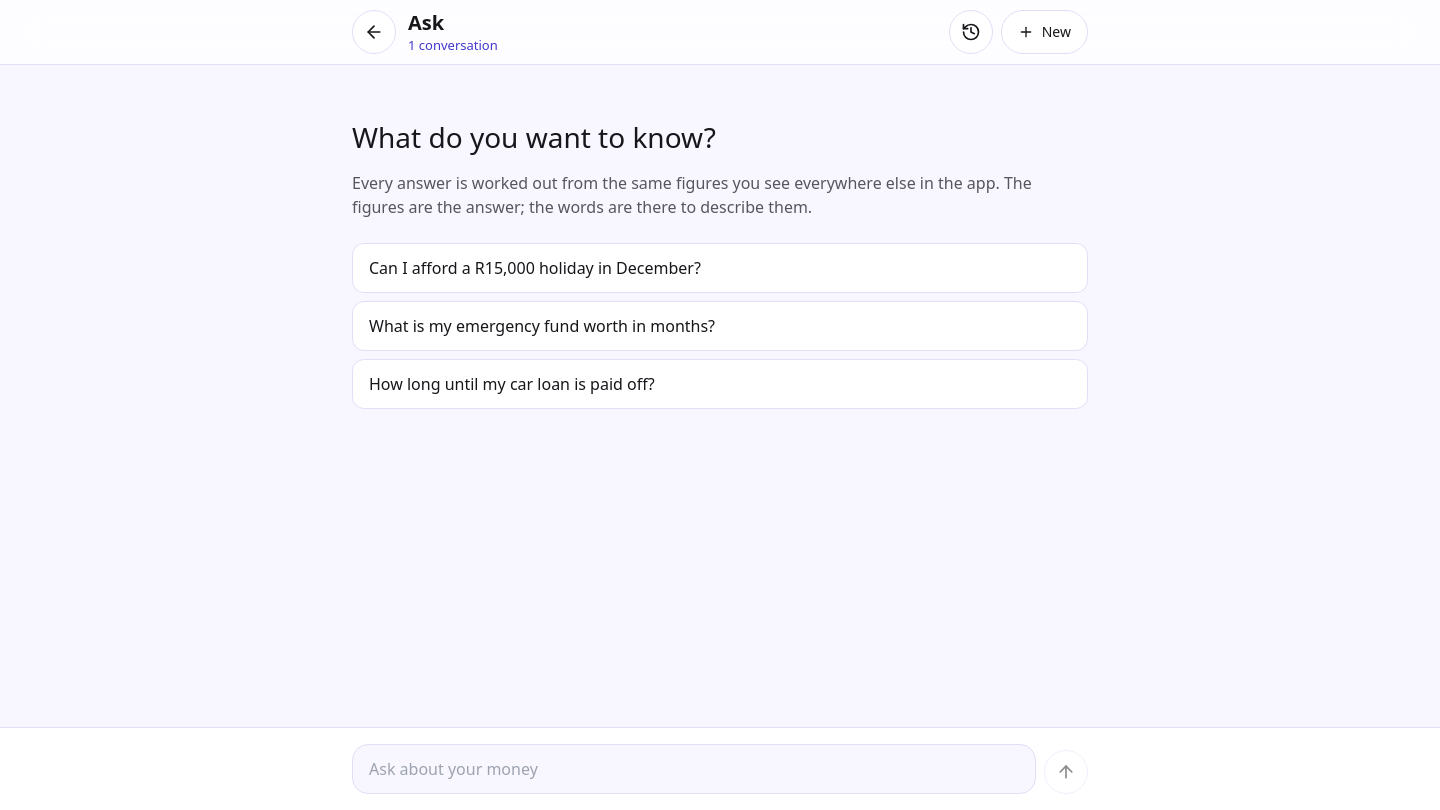
it: ChatView history › leaves no deleted thread on screen when the open one is the one deleted
Click the button named "History". click: [971, 32]
box: 949,10 -> 993,54
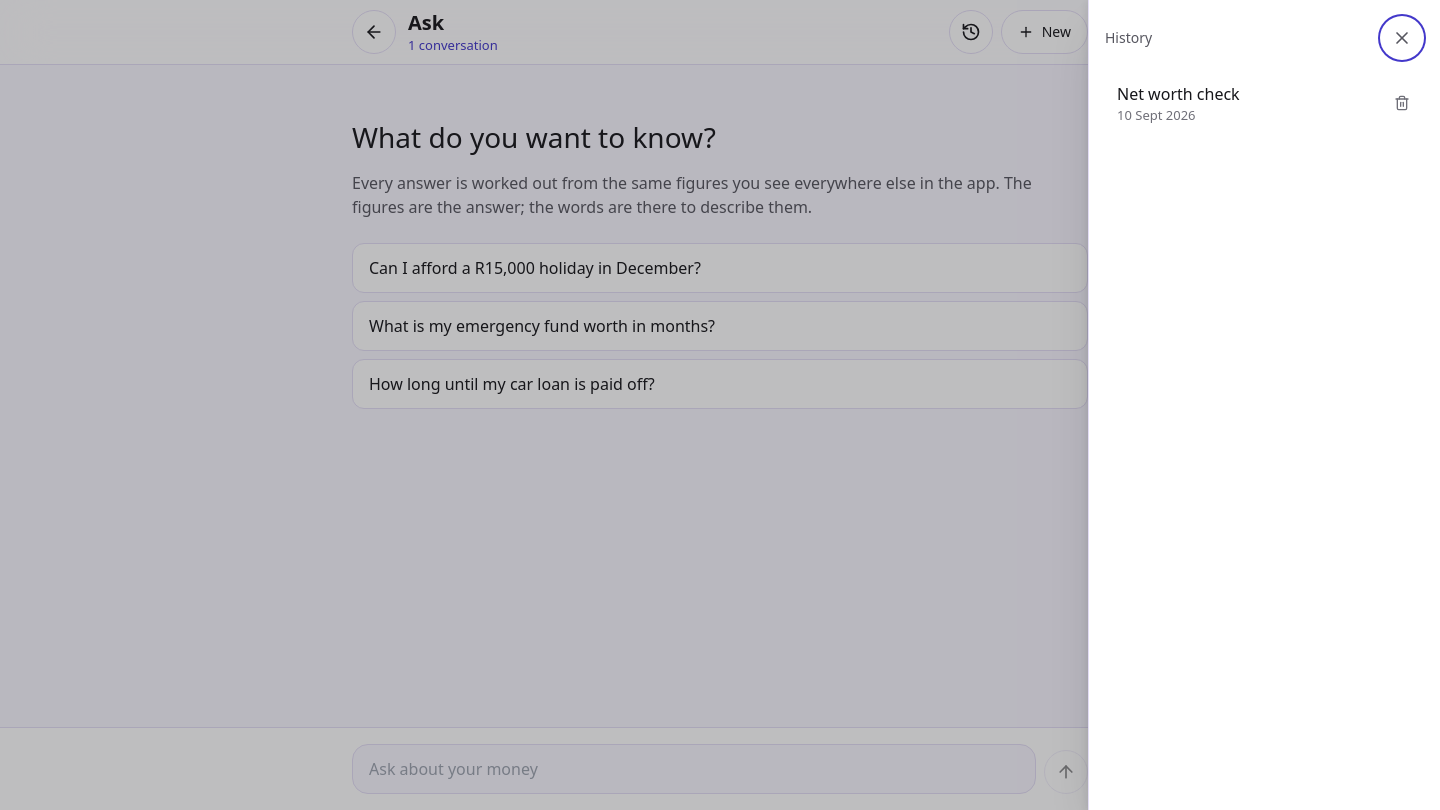
Click the text "Net worth check". click: [1178, 94]
box: 1117,82 -> 1240,106
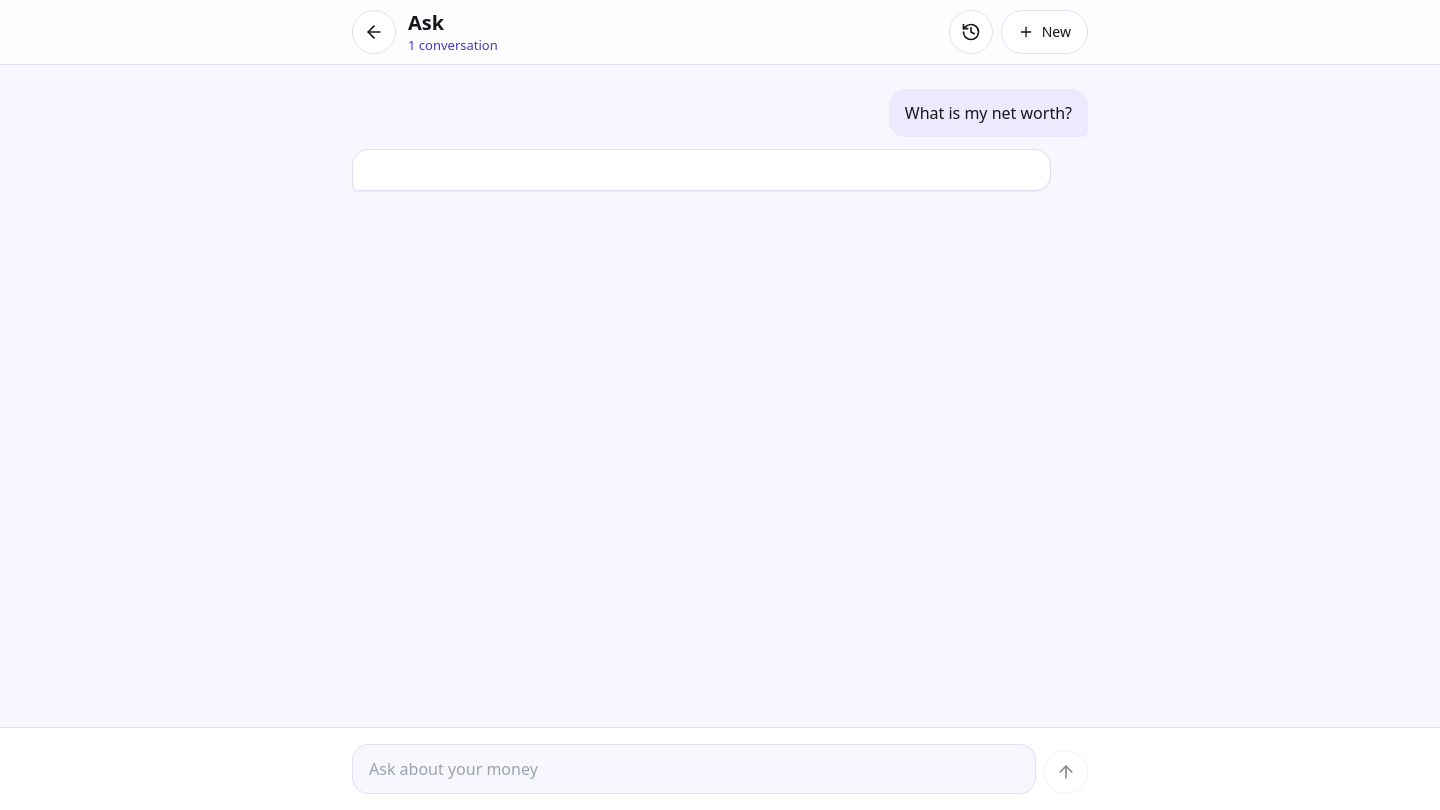
expect the text "What is my net worth?" is shown: met, box 889,89 -> 1088,137
Click the button named "History". click: [971, 32]
box: 949,10 -> 993,54
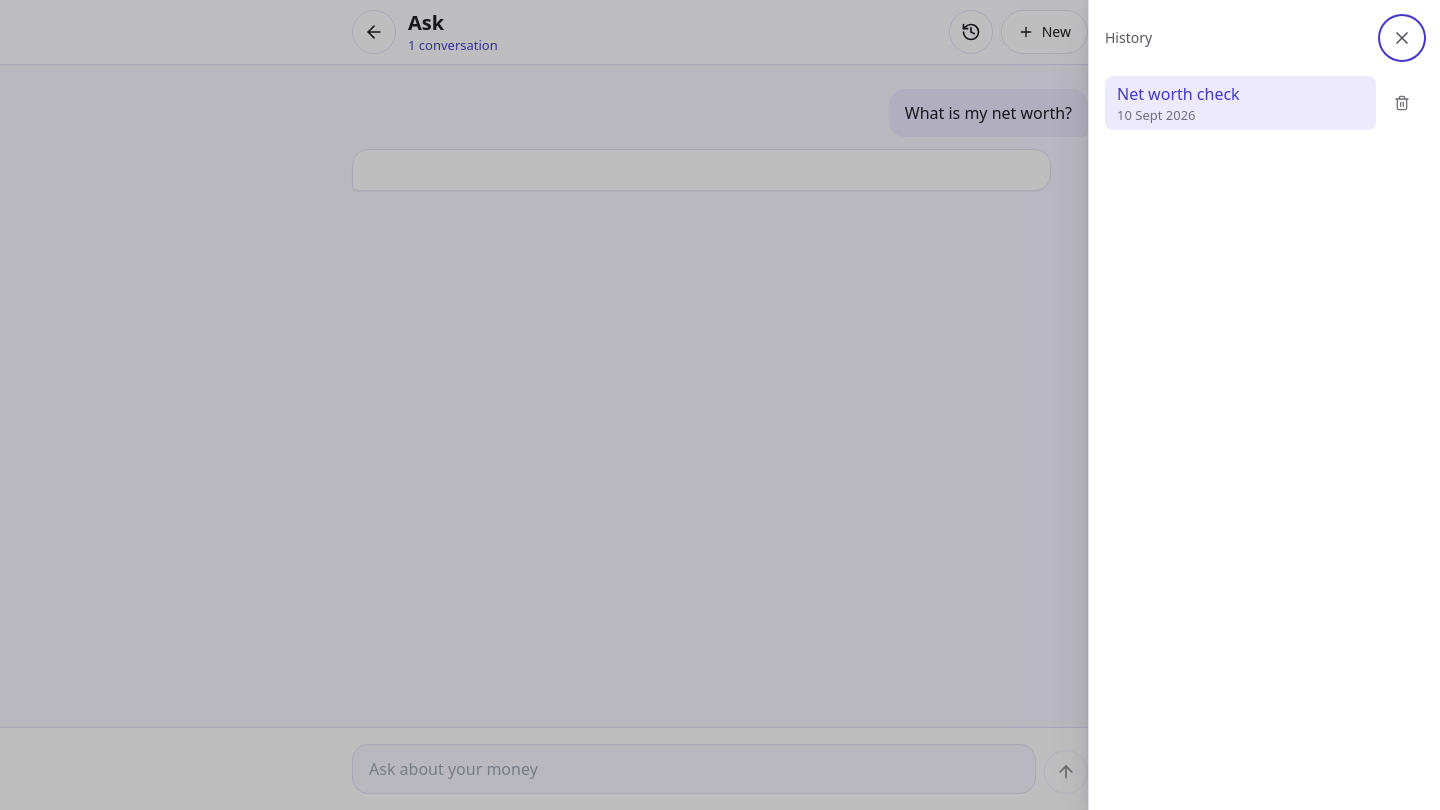
Click the button named "Delete Net worth check". click: [1402, 103]
box: 1380,81 -> 1424,125
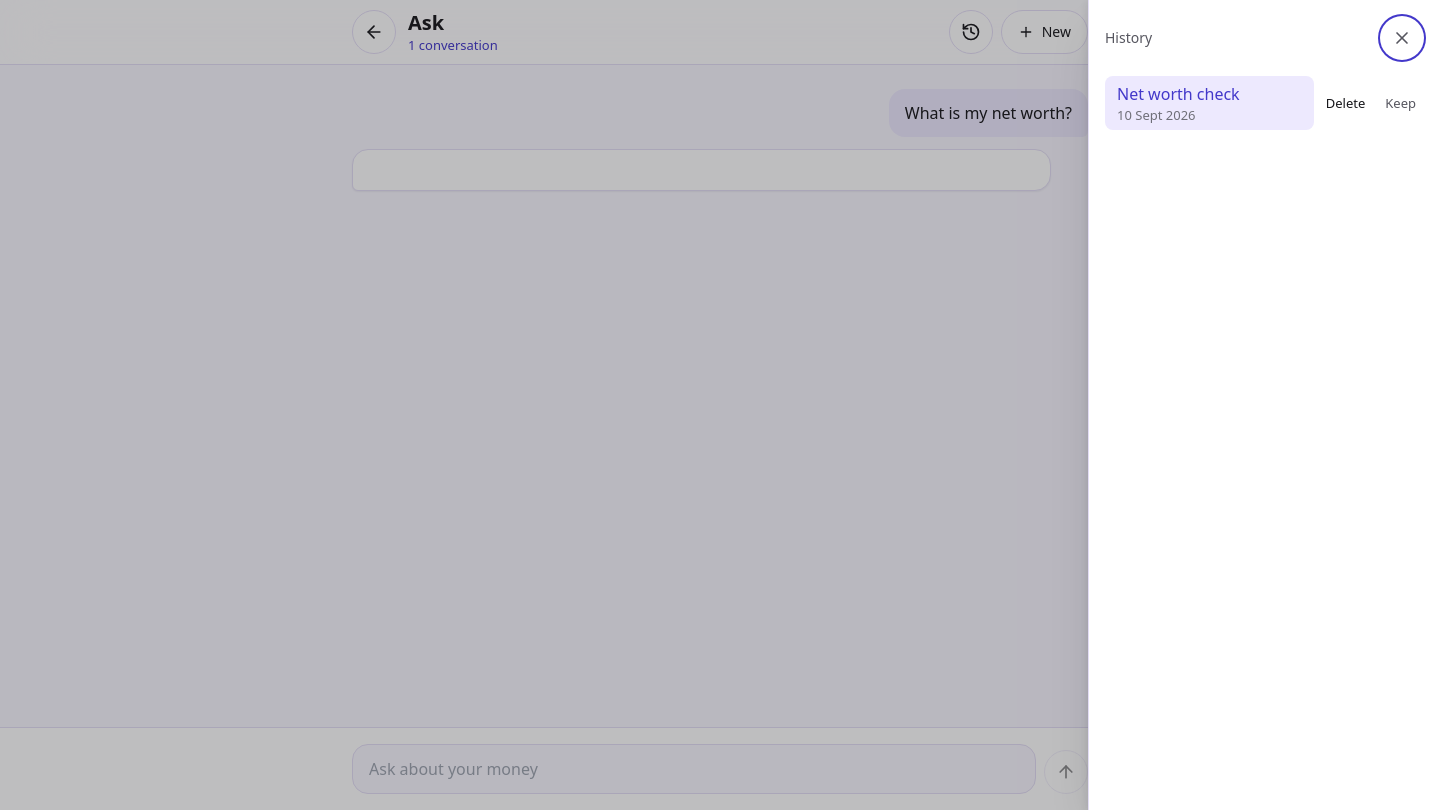
Click the button "Delete". click: [1345, 103]
box: 1318,81 -> 1373,125
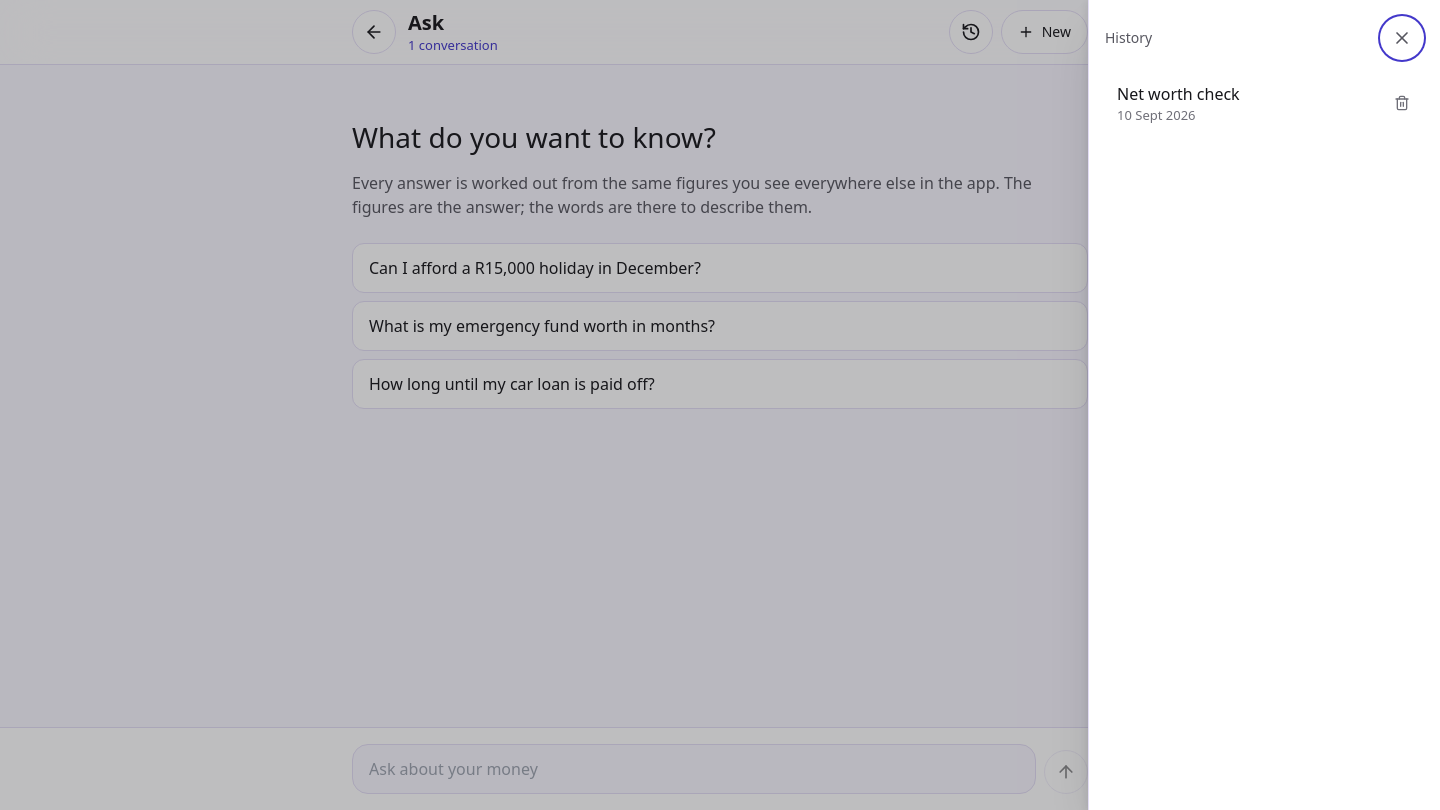
expect the text "What is my net worth?" is gone: met
